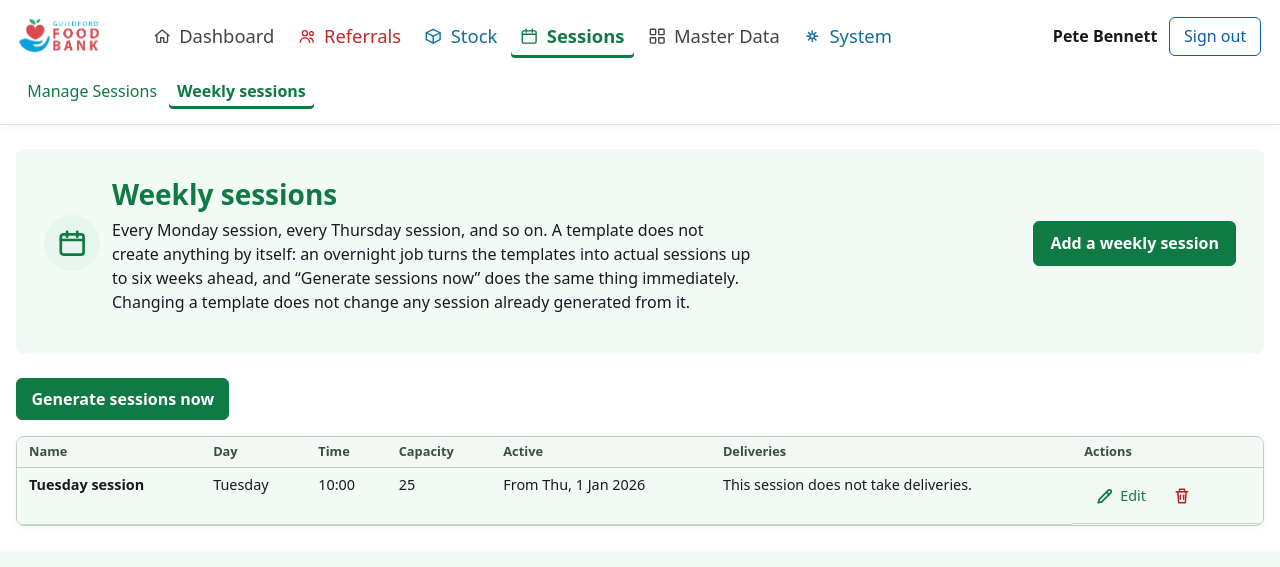
Test: generating sessions from the templates › reads a zero count as already up to date rather than as a failure
The width and height of the screenshot is (1280, 567).
Click the button "Generate sessions now": coordinates (123, 399) [16,378,230,420]
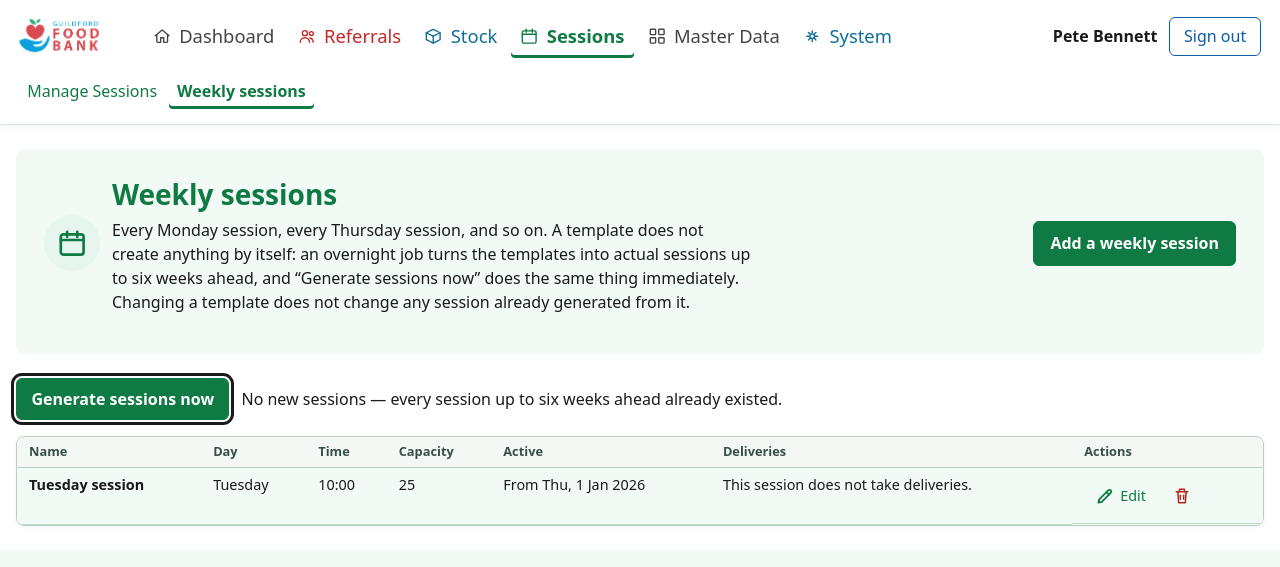
Result: the text "No new sessions — every session up to six weeks ahead already existed." is shown at [242,387,782,411]
